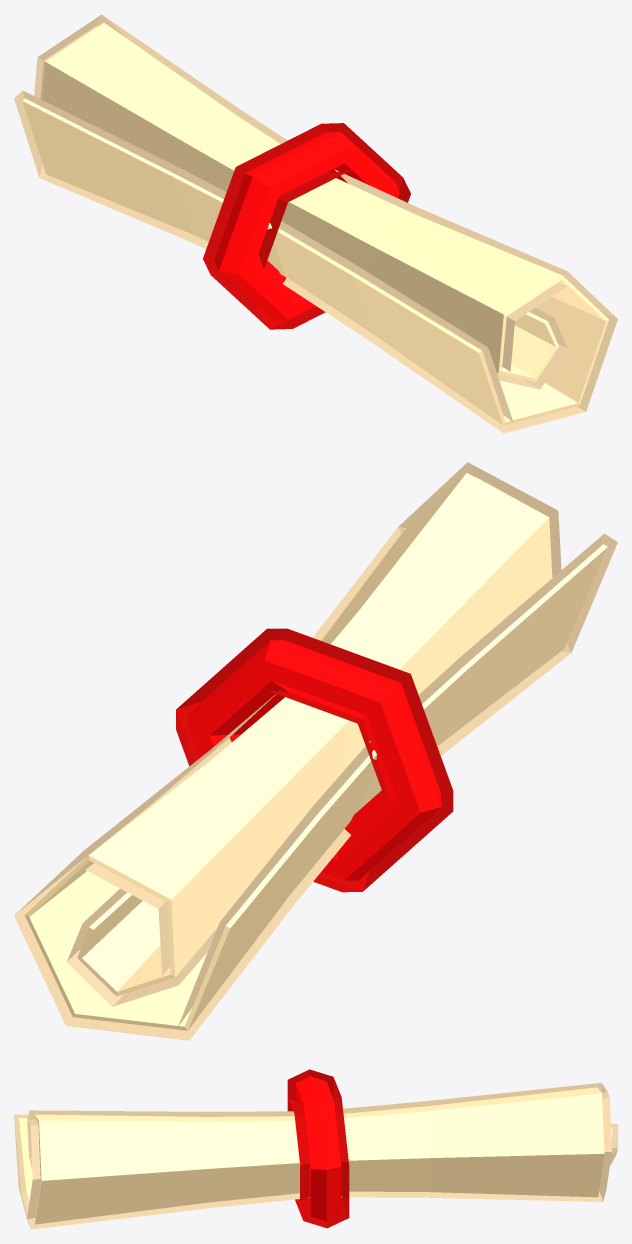
Rendered from scroll6.glb.
The picture shows the model from 3 angles, top to bottom: view 1: azimuth 30°, elevation 25°; view 2: azimuth 150°, elevation 25°; view 3: azimuth 270°, elevation 25°; orthographic projection. The views are drawn at different scales.
Visible parts, largest first — view 1: Scroll.005, PaperToon.006; view 2: Scroll.005, PaperToon.006; view 3: Scroll.005, PaperToon.006.
Boxes of the visible parts, x1,y1,x2,y2 form: Scroll.005: (22, 23, 608, 425); PaperToon.006: (14, 14, 617, 433); Scroll.005: (25, 473, 607, 1030); PaperToon.006: (14, 462, 617, 1040); Scroll.005: (19, 1076, 612, 1224); PaperToon.006: (14, 1069, 617, 1229).
Bounding box in the file's own units: 0.1322 × 0.0997 × 0.3887.
Materials: 2 (2 with a texture image).
